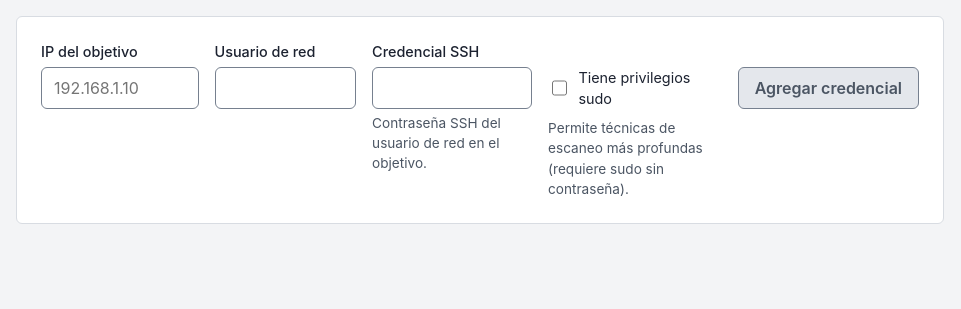
Test: NetworkCredentialForm › no_muestra_gateway_ni_el_cuerpo_del_servidor_en_los_errores
The width and height of the screenshot is (961, 309).
Type "10.0.0.1" into the field labelled "IP del objetivo" at (120, 88), box [41,67,198,109]
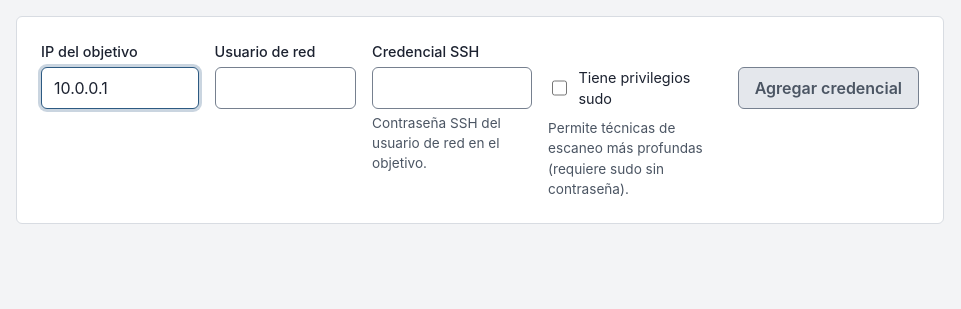
Type "root" into the field labelled "Usuario de red" at (285, 88), box [214,67,356,109]
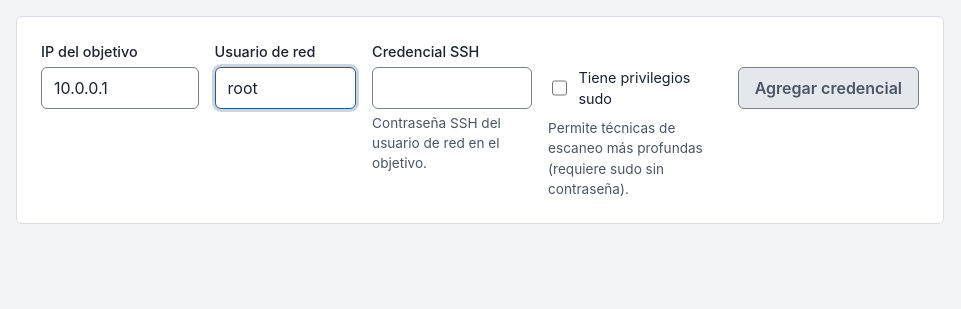
Type "x" into the password field labelled "Credencial SSH" at (452, 88), box [372,67,532,109]
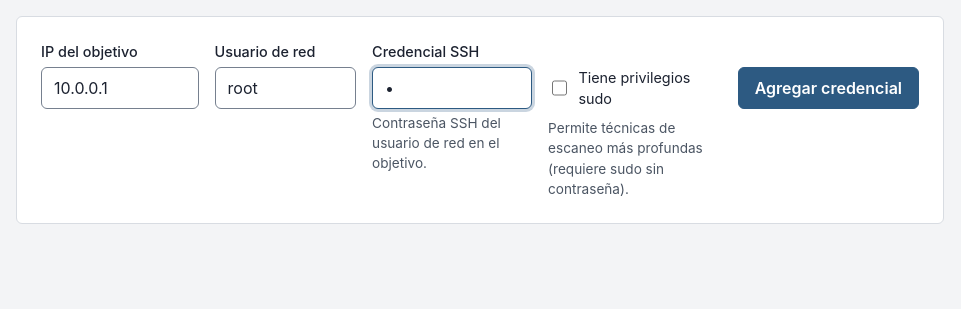
Click the button "Agregar credencial" at (828, 88), box [738,67,919,109]
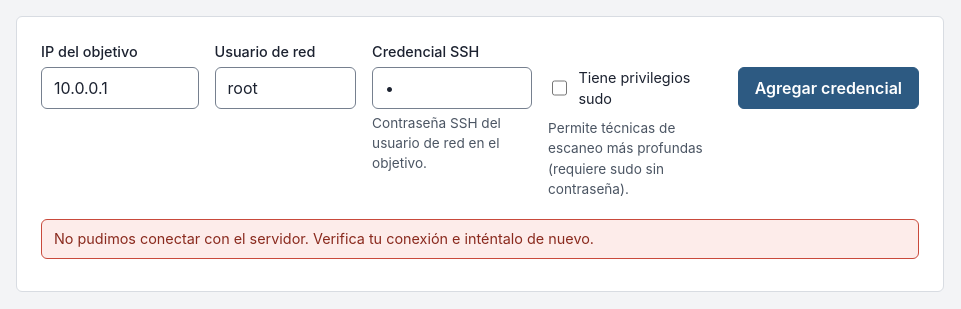
Check: the message does not show "gateway", box [41,219,919,259]
Check: the message is shown, box [41,219,919,259]
